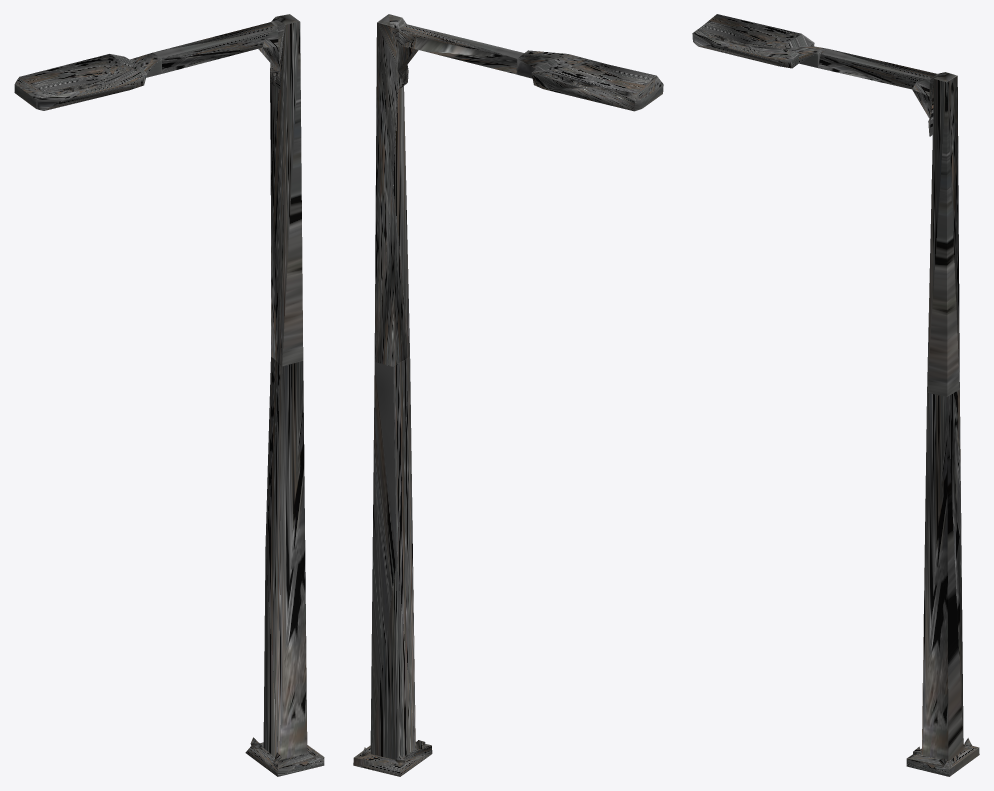
File: street_lamp_2000.glb
The picture shows the model from 3 angles, left to right: view 1: azimuth 30°, elevation 25°; view 2: azimuth 150°, elevation 25°; view 3: azimuth 330°, elevation 25°; orthographic projection. The views are drawn at different scales.
Visible parts, largest first — view 1: output_unwrapped; view 2: output_unwrapped; view 3: output_unwrapped.
Part boxes in pixels (left/top/right/bottom): output_unwrapped: left=14, top=14, right=324, bottom=776; output_unwrapped: left=353, top=14, right=663, bottom=776; output_unwrapped: left=692, top=14, right=979, bottom=776.
Size of the model in its own units: 2.49 by 6.2 by 0.4889.
Materials: 1 (1 with a texture image).
